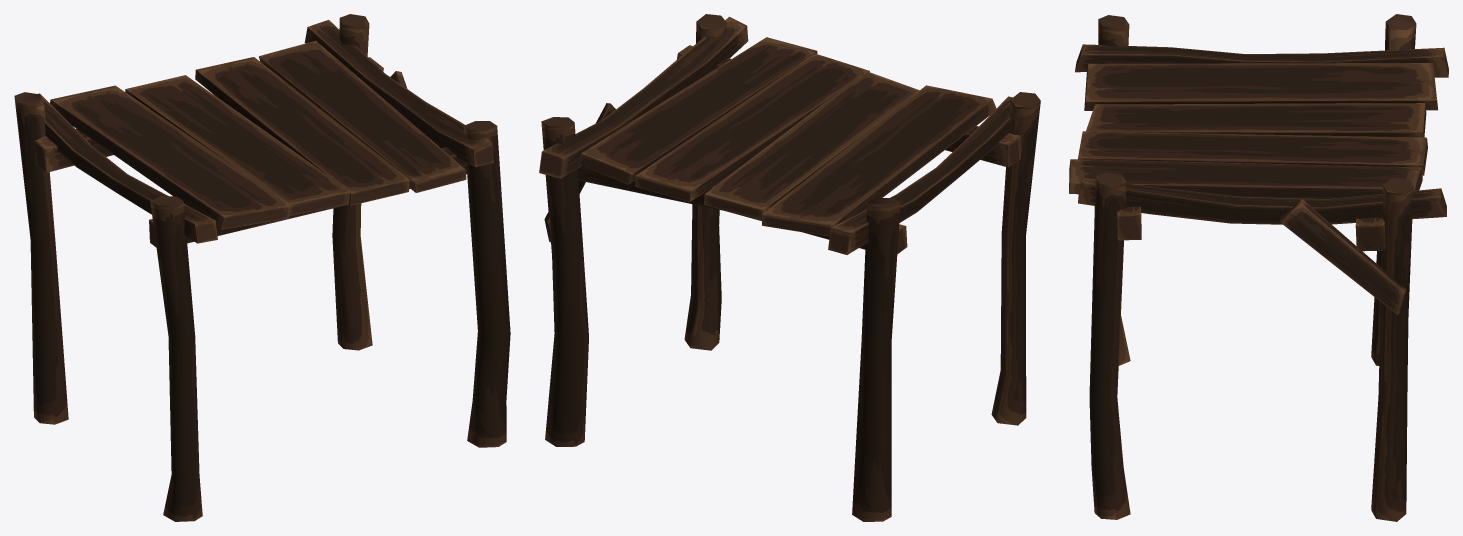
Rendered from SM_PROP_woodbridge_dungeon_04.fbx.
3 views of the same model, side by side, from view 1: azimuth 30°, elevation 25°; view 2: azimuth 150°, elevation 25°; view 3: azimuth 270°, elevation 25° (orthographic). The views are drawn at different scales.
Visible parts, largest first — view 1: SM_PROP_woodbridge_dungeon_04; view 2: SM_PROP_woodbridge_dungeon_04; view 3: SM_PROP_woodbridge_dungeon_04.
Part boxes in pixels (<box>): SM_PROP_woodbridge_dungeon_04: <box>14,14,510,521</box>; SM_PROP_woodbridge_dungeon_04: <box>539,14,1040,521</box>; SM_PROP_woodbridge_dungeon_04: <box>1069,14,1448,521</box>.
Size of what is drawn, in the model's own units: 406 by 353 by 367.
